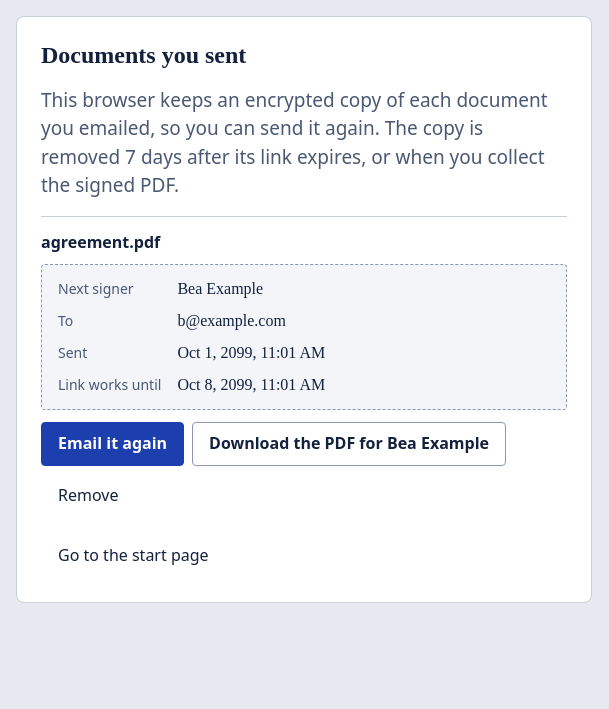
it: Documents you sent › says so when the key for a kept copy is gone, and opens no email panel
Click the button with test id "sent-item-email" at (113, 444), box [41,422,184,466]
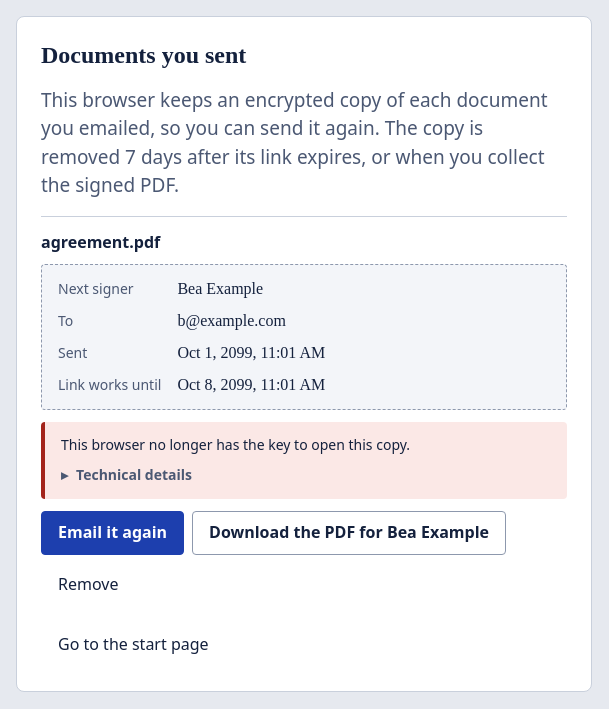
Check: the message with test id "sent-item-error" shows "no longer has the key", box [61,435,410,454]
